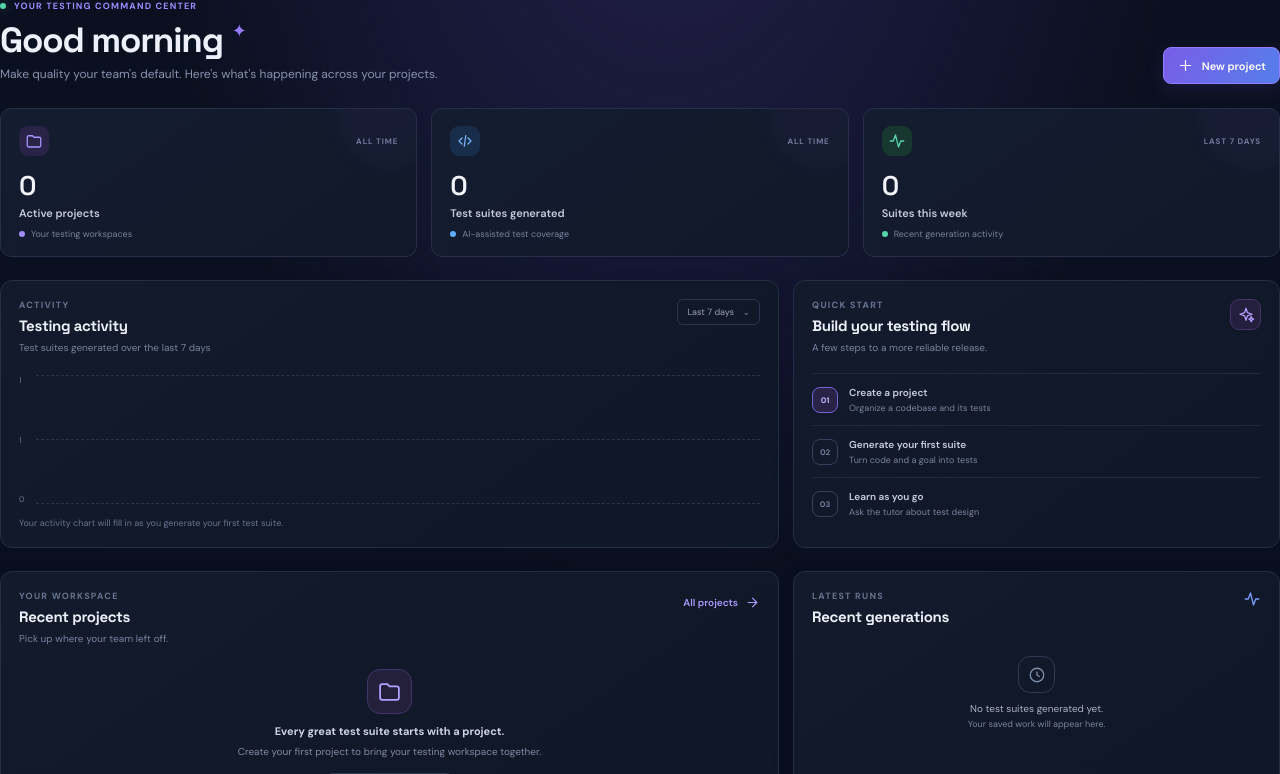
Scenario: workspace dashboard › creates a project through the API and navigates to its workspace
Expected: the heading "Good morning ✦" is shown, x1=0 y1=18 x2=246 y2=62
Click the button "New project" at (1221, 66), box x1=1163 y1=47 x2=1279 y2=84
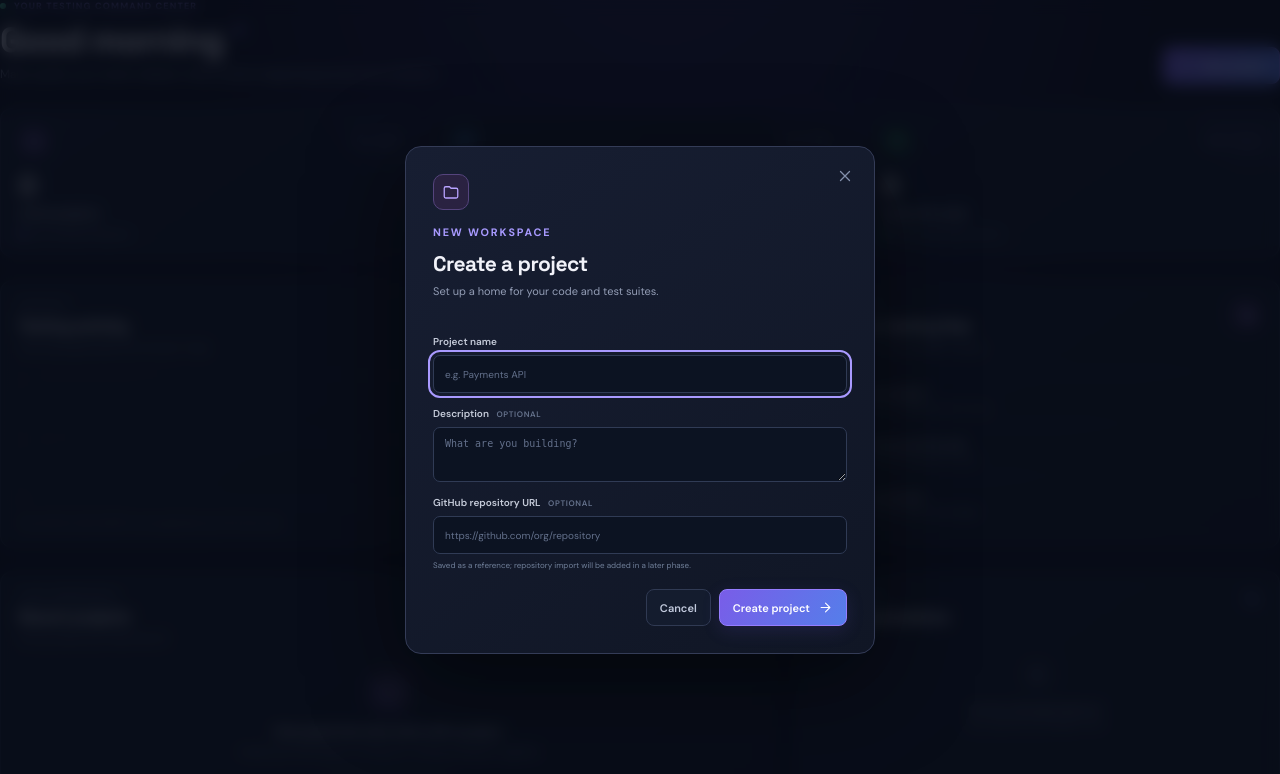
Type "Payments API" into the field labelled "Project name" at (640, 374), box x1=433 y1=355 x2=847 y2=393
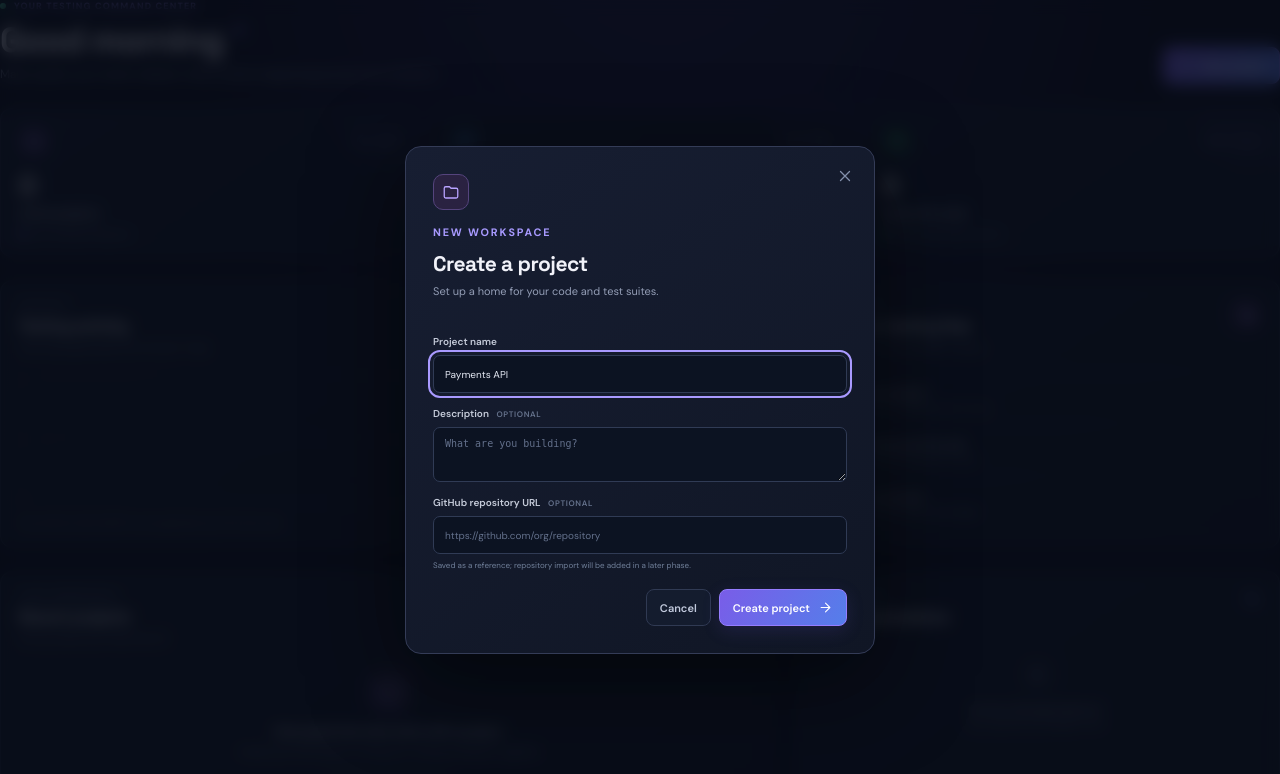
Type "Checkout test workspace" into the text box labelled "Description OPTIONAL" at (640, 455), box x1=433 y1=427 x2=847 y2=482
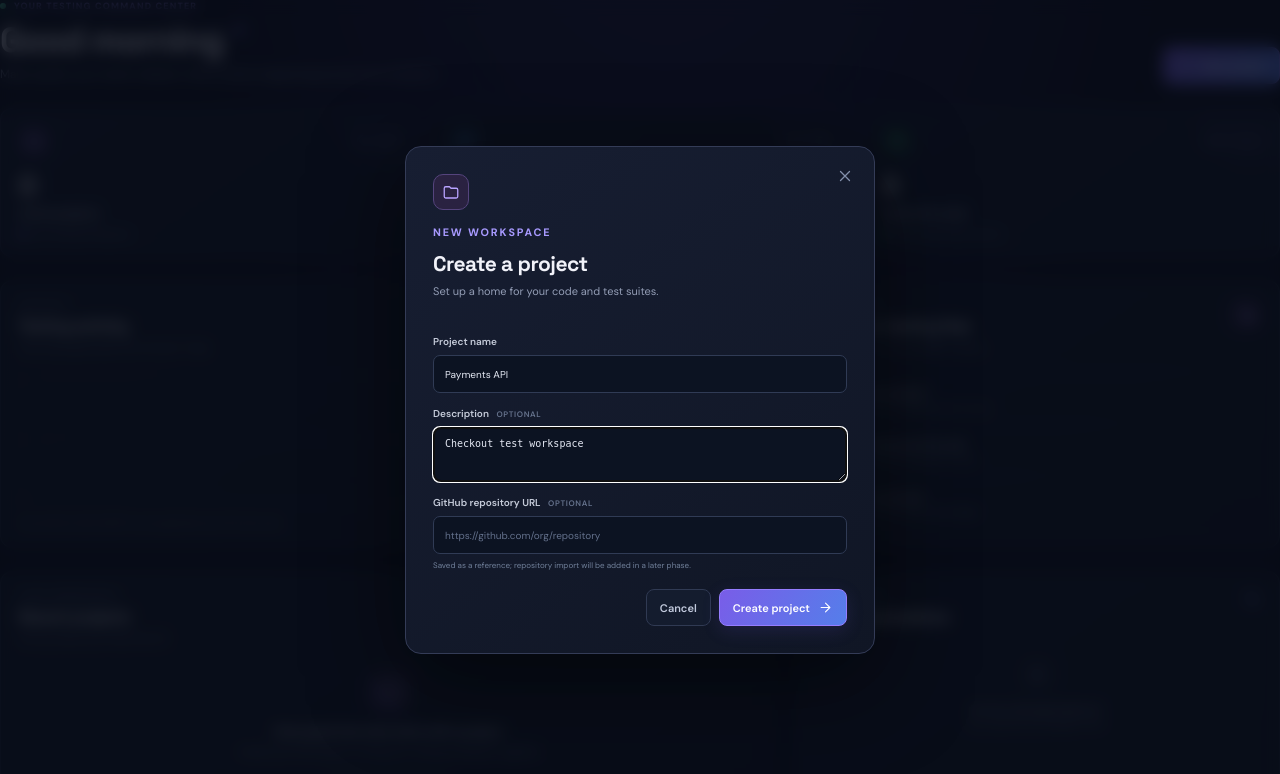
Click the button "Create project" at (783, 608), box x1=719 y1=589 x2=847 y2=626
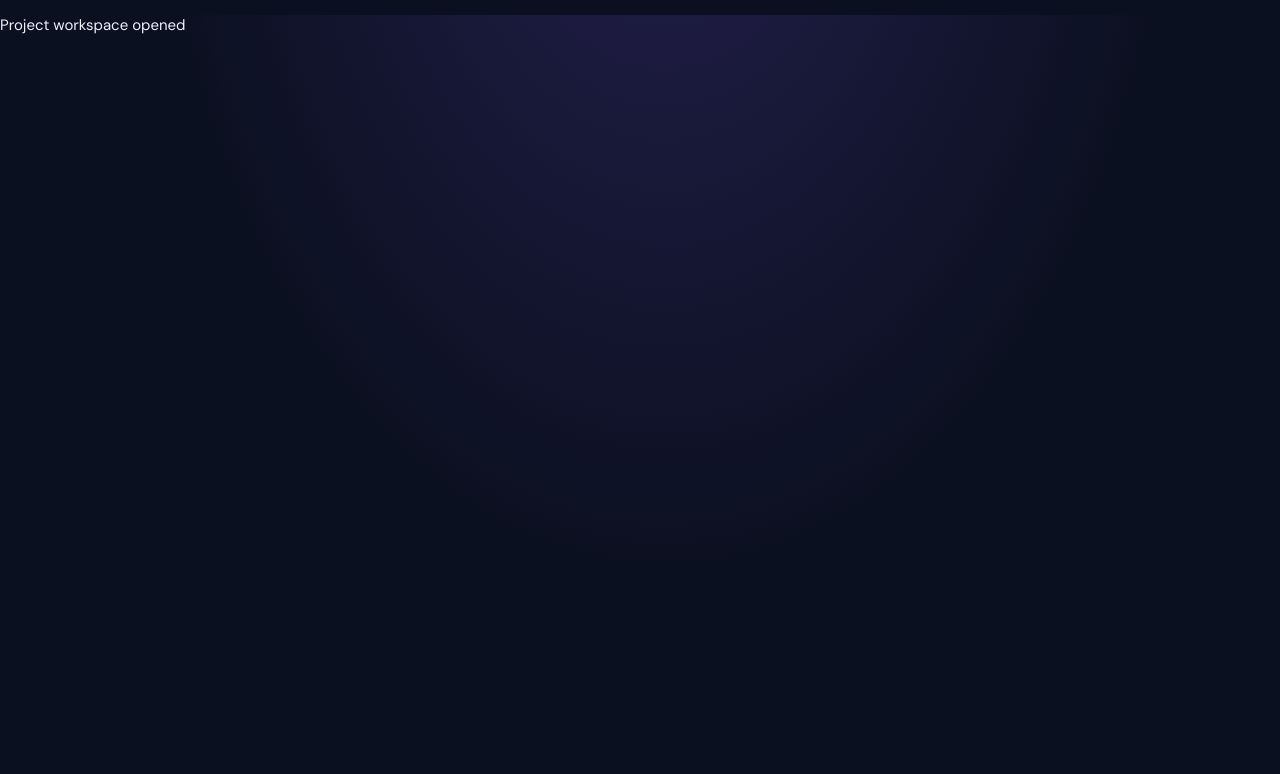
Result: the text "Project workspace opened" is shown at x1=0 y1=15 x2=186 y2=35
